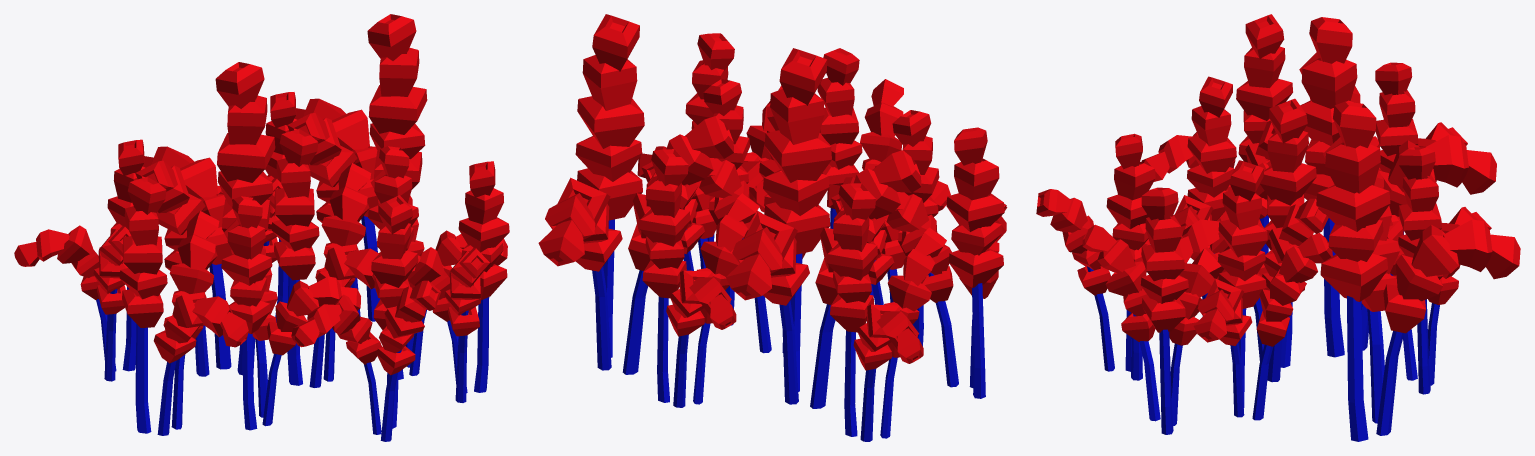
File: SM_GrassFlower.fbx
3 views of the same model, side by side, from view 1: azimuth 30°, elevation 25°; view 2: azimuth 150°, elevation 25°; view 3: azimuth 270°, elevation 25° (orthographic). The views are drawn at different scales.
Parts seen in each view (by area): view 1: SM_Wheat3; view 2: SM_Wheat3; view 3: SM_Wheat3.
Part boxes in pixels (x1,y1,x2,y2): SM_Wheat3: (14, 14, 509, 441); SM_Wheat3: (538, 14, 1007, 441); SM_Wheat3: (1036, 14, 1520, 441).
Bounding box in the file's own units: 66.27 × 52.38 × 69.22.
